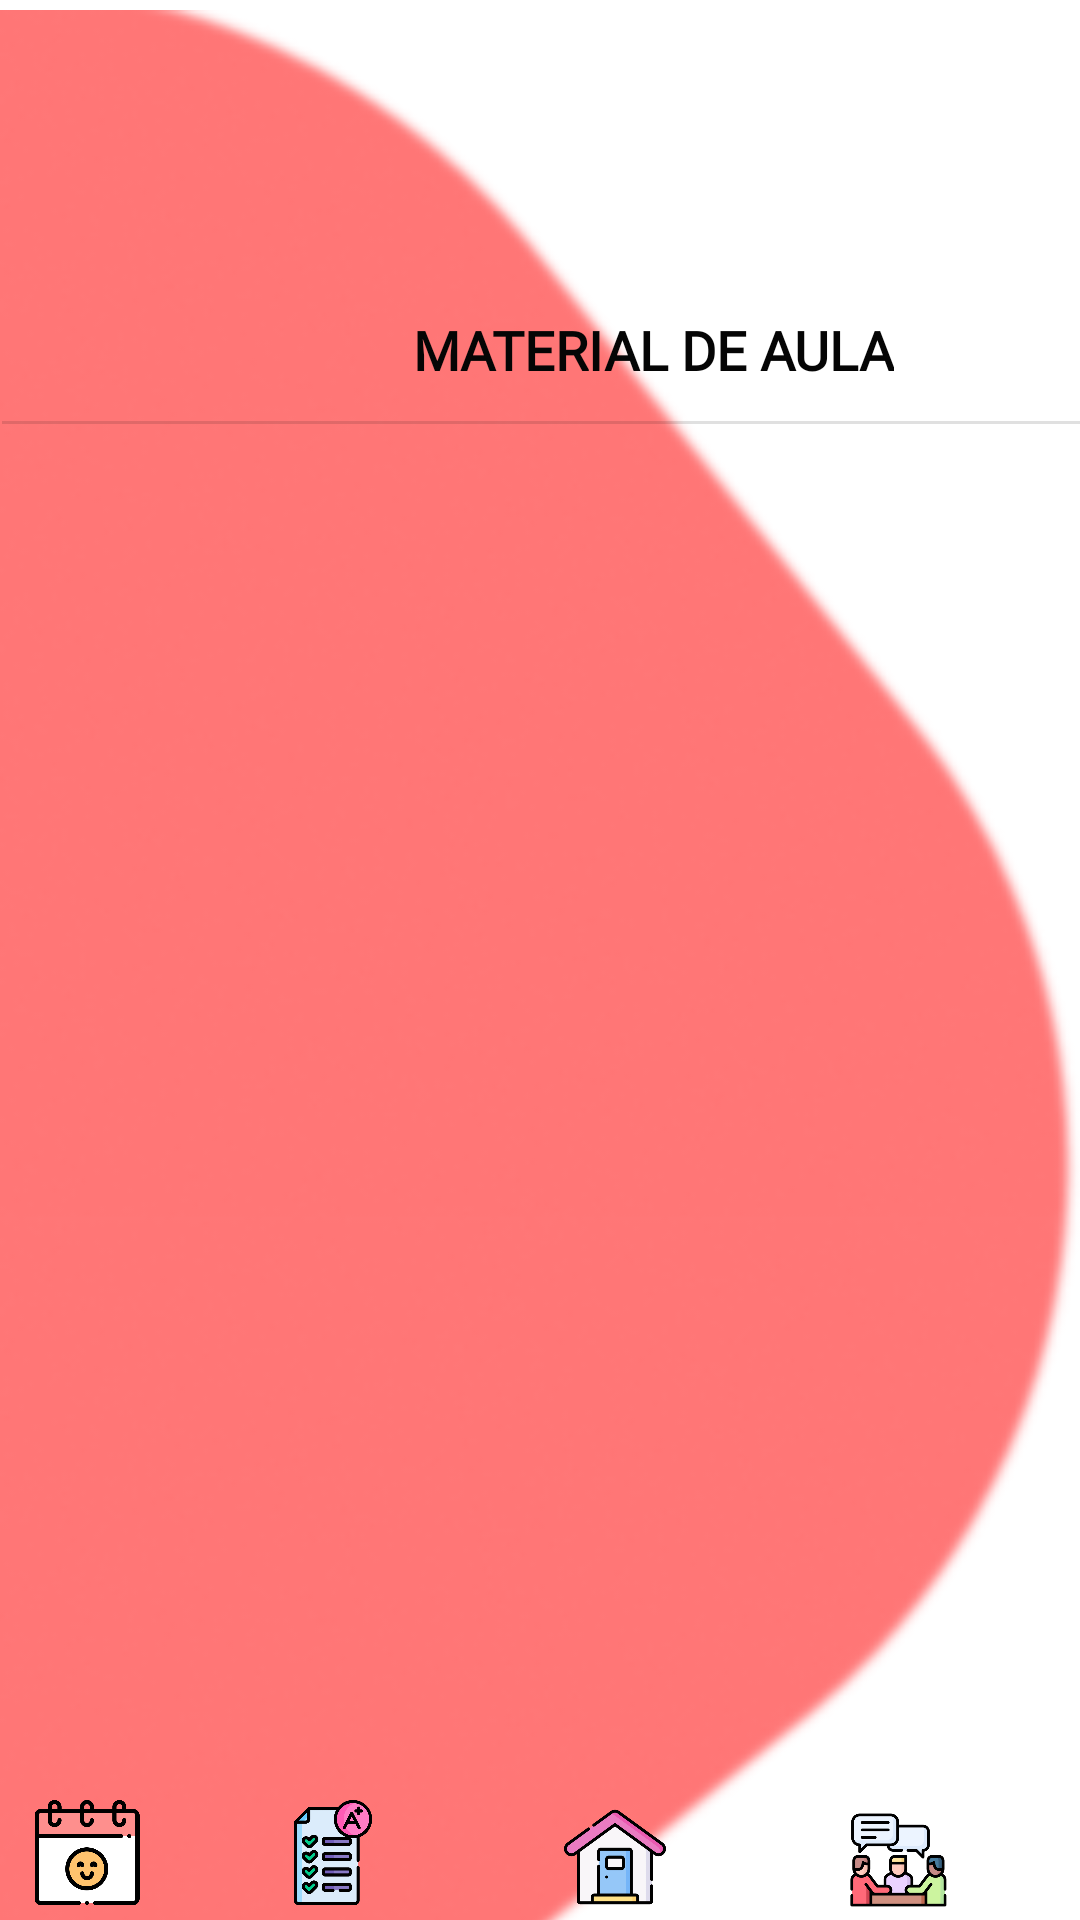

Icon click points for this 1080×1920 phone screenshot, format (x,y):
bdenavecagao calendario: (87,1852)
bdenavecagao home: (615,1855)
bdenavecagao talkprofessor: (898,1860)
notas: (333,1852)
